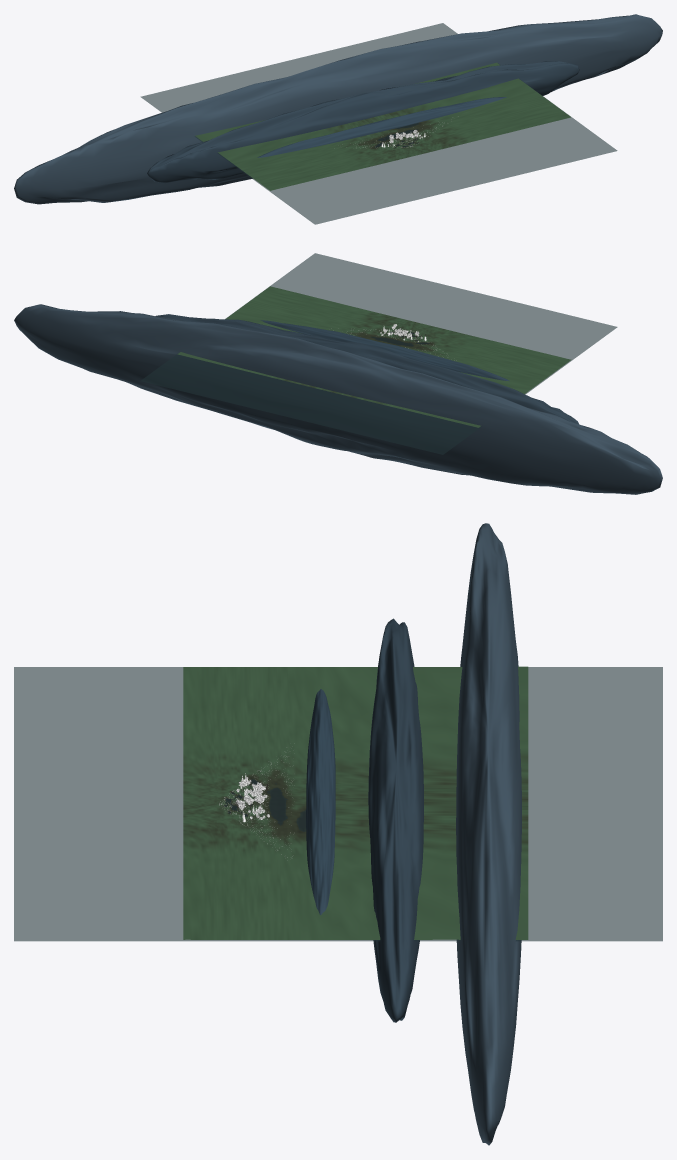
Rendered from marsh-lite.glb.
The picture shows the model from 3 angles, top to bottom: view 1: azimuth 30°, elevation 25°; view 2: azimuth 150°, elevation 25°; view 3: azimuth 270°, elevation 25°; orthographic projection. The views are drawn at different scales.
Parts seen in each view (by area): view 1: Ridge2, WaterPlane, Ground, Ridge1, Hill; view 2: Ridge2, WaterPlane, Ground, Ridge1, Hill; view 3: WaterPlane, Ground, Ridge2, Ridge1, Hill.
Part boxes in pixels (box(x1,y1,x2,y2)): Ridge2: box(14, 14, 662, 204); WaterPlane: box(141, 23, 617, 224); Ground: box(195, 62, 570, 190); Ridge1: box(147, 61, 579, 183); Hill: box(257, 97, 506, 157); Ridge2: box(14, 304, 662, 494); WaterPlane: box(141, 253, 617, 454); Ground: box(177, 286, 571, 427); Ridge1: box(155, 314, 578, 424); Hill: box(260, 320, 509, 381); WaterPlane: box(14, 667, 662, 941); Ground: box(183, 666, 528, 939); Ridge2: box(456, 523, 521, 1145); Ridge1: box(368, 618, 423, 1022); Hill: box(306, 689, 335, 915).
Bounding box in the file's own units: 1200 × 177 × 560.
Materials: 11 (1 with a texture image).
